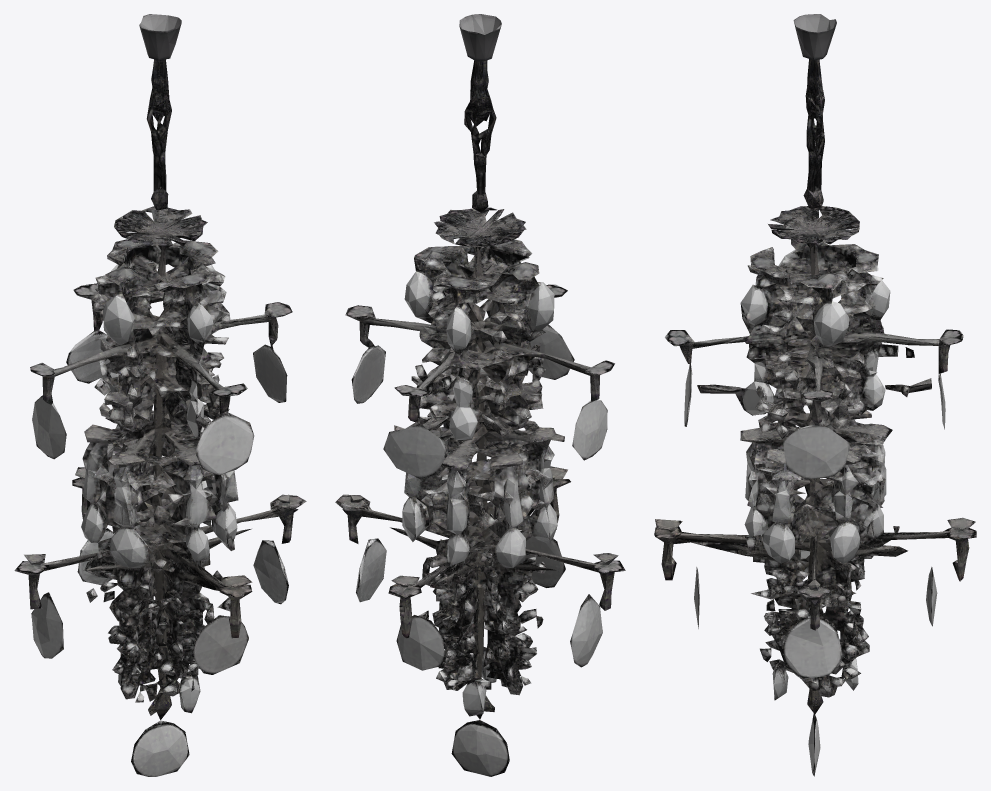
Rendered from Erik_Hoglund_Chandelier.glb.
3 renders of one model, left to right at view 1: azimuth 30°, elevation 25°; view 2: azimuth 150°, elevation 25°; view 3: azimuth 270°, elevation 25°, orthographic.
Visible parts, largest first — view 1: world; view 2: world; view 3: world.
Part boxes in pixels (box(x1,y1,x2,y2)): world: box(14, 14, 306, 776); world: box(335, 14, 625, 776); world: box(654, 14, 976, 776).
Size of the model in its own units: 0.4003 by 1 by 0.3916.
1 material, 1 textured.
